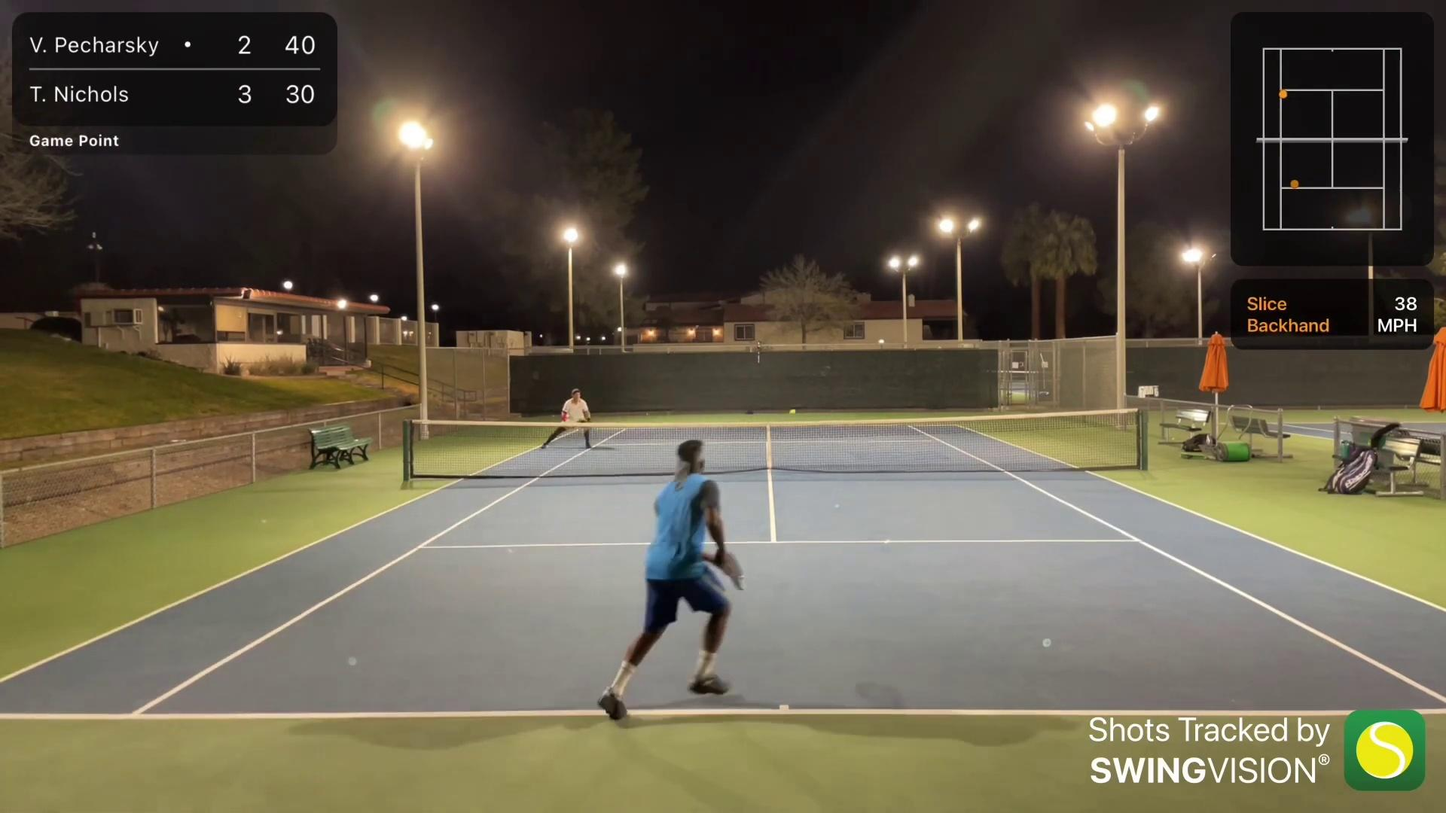ball: (788, 405, 802, 416)
